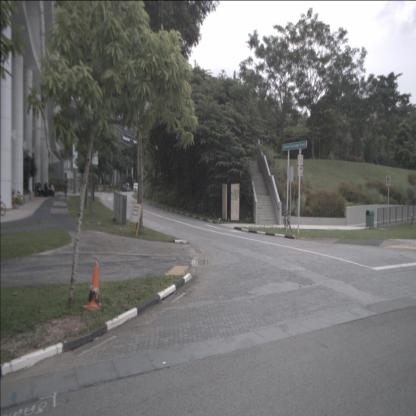human-pedestrian-adult: (36, 181, 45, 196), (49, 182, 55, 197), (43, 182, 48, 196), (64, 180, 67, 202)
movable_object-trafficcone: (83, 256, 103, 311)
vehicle-bicycle: (6, 189, 25, 206), (6, 193, 22, 210), (283, 211, 293, 233)
vehicle-car: (123, 183, 132, 192), (133, 182, 139, 192)
